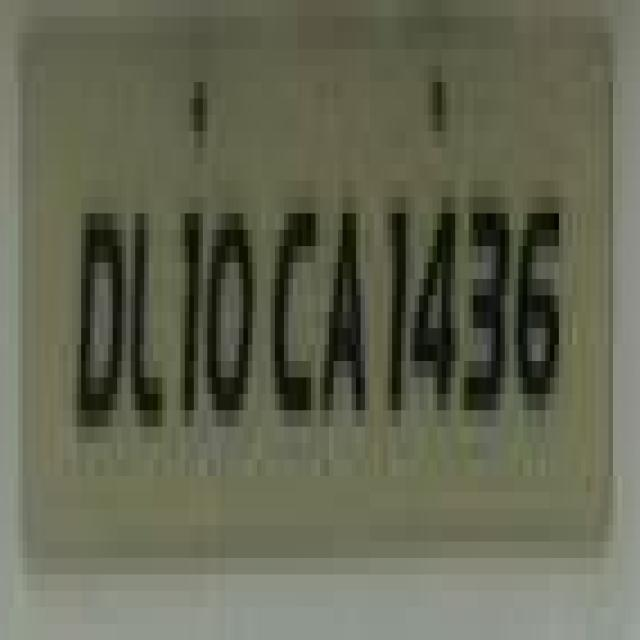plate: (4, 17, 604, 574)
